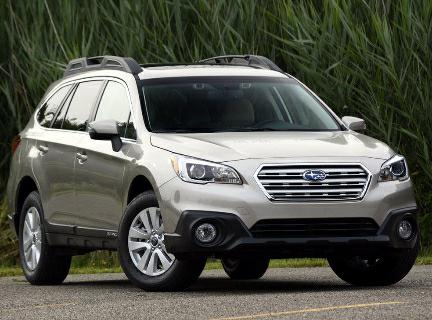斯巴鲁-傲虎: (6, 50, 425, 295)
